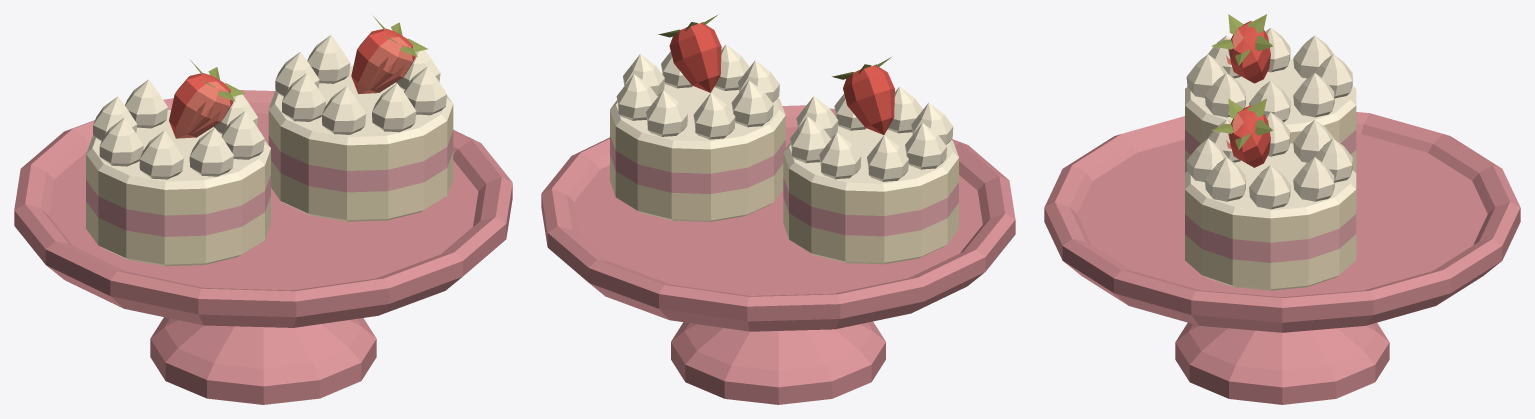
File: 12-cake-stand.glb
The picture shows the model from 3 angles, left to right: view 1: azimuth 30°, elevation 25°; view 2: azimuth 150°, elevation 25°; view 3: azimuth 270°, elevation 25°; orthographic projection. The views are drawn at different scales.
Parts seen in each view (by area): view 1: 02 Rose serving platter, Cake 1 - vanilla and pink filling, Cake 2 - vanilla and pink filling, 01 Rose pedestal, Cake 2 faceted strawberry, Cake 1 faceted strawberry, Cake 1 cream peak 06, Cake 1 cream peak 07, Cake 2 cream peak 06, Cake 2 cream peak 07, Cake 1 cream peak 05, Cake 2 cream peak 05 (+8 smaller); view 2: 02 Rose serving platter, Cake 1 - vanilla and pink filling, Cake 2 - vanilla and pink filling, 01 Rose pedestal, Cake 1 faceted strawberry, Cake 2 faceted strawberry, Cake 2 cream peak 03, Cake 1 cream peak 04, Cake 2 cream peak 04, Cake 1 cream peak 03, Cake 2 cream peak 05, Cake 1 cream peak 05 (+10 smaller); view 3: 02 Rose serving platter, Cake 2 - vanilla and pink filling, 01 Rose pedestal, Cake 1 - vanilla and pink filling, Cake 1 faceted strawberry, Cake 2 faceted strawberry, Cake 2 cream peak 01, Cake 1 cream peak 02, Cake 2 cream peak 02, Cake 2 cream peak 08, Cake 1 cream peak 08, Cake 1 cream peak 07 (+10 smaller).
Boxes of the visible parts, <box> form: 02 Rose serving platter: <box>14,90,512,327</box>; Cake 1 - vanilla and pink filling: <box>86,110,270,266</box>; Cake 2 - vanilla and pink filling: <box>268,65,453,221</box>; 01 Rose pedestal: <box>150,317,376,404</box>; Cake 2 faceted strawberry: <box>351,28,415,94</box>; Cake 1 faceted strawberry: <box>169,73,233,138</box>; Cake 1 cream peak 06: <box>139,130,183,179</box>; Cake 1 cream peak 07: <box>189,127,233,176</box>; Cake 2 cream peak 06: <box>322,86,366,134</box>; Cake 2 cream peak 07: <box>372,83,416,132</box>; Cake 1 cream peak 05: <box>99,117,143,166</box>; Cake 2 cream peak 05: <box>282,73,326,121</box>; 02 Rose serving platter: <box>541,105,1015,331</box>; Cake 1 - vanilla and pink filling: <box>783,126,958,264</box>; Cake 2 - vanilla and pink filling: <box>610,83,785,221</box>; 01 Rose pedestal: <box>671,321,885,404</box>; Cake 1 faceted strawberry: <box>843,65,894,134</box>; Cake 2 faceted strawberry: <box>669,23,721,92</box>; Cake 2 cream peak 03: <box>646,90,687,136</box>; Cake 1 cream peak 04: <box>867,135,908,181</box>; Cake 2 cream peak 04: <box>693,93,735,139</box>; Cake 1 cream peak 03: <box>819,132,861,179</box>; Cake 2 cream peak 05: <box>731,80,773,127</box>; Cake 1 cream peak 05: <box>905,123,946,169</box>; 02 Rose serving platter: <box>1044,112,1520,332</box>; Cake 2 - vanilla and pink filling: <box>1185,143,1356,290</box>; 01 Rose pedestal: <box>1175,322,1389,404</box>; Cake 1 - vanilla and pink filling: <box>1185,59,1356,172</box>; Cake 1 faceted strawberry: <box>1229,21,1270,83</box>; Cake 2 faceted strawberry: <box>1229,105,1270,167</box>; Cake 2 cream peak 01: <box>1249,165,1290,209</box>; Cake 1 cream peak 02: <box>1293,73,1334,117</box>; Cake 2 cream peak 02: <box>1293,157,1334,201</box>; Cake 2 cream peak 08: <box>1205,157,1245,201</box>; Cake 1 cream peak 08: <box>1205,73,1245,117</box>; Cake 1 cream peak 07: <box>1186,54,1227,97</box>.
Size of the model in its own units: 3.2 by 2.32 by 3.2.
